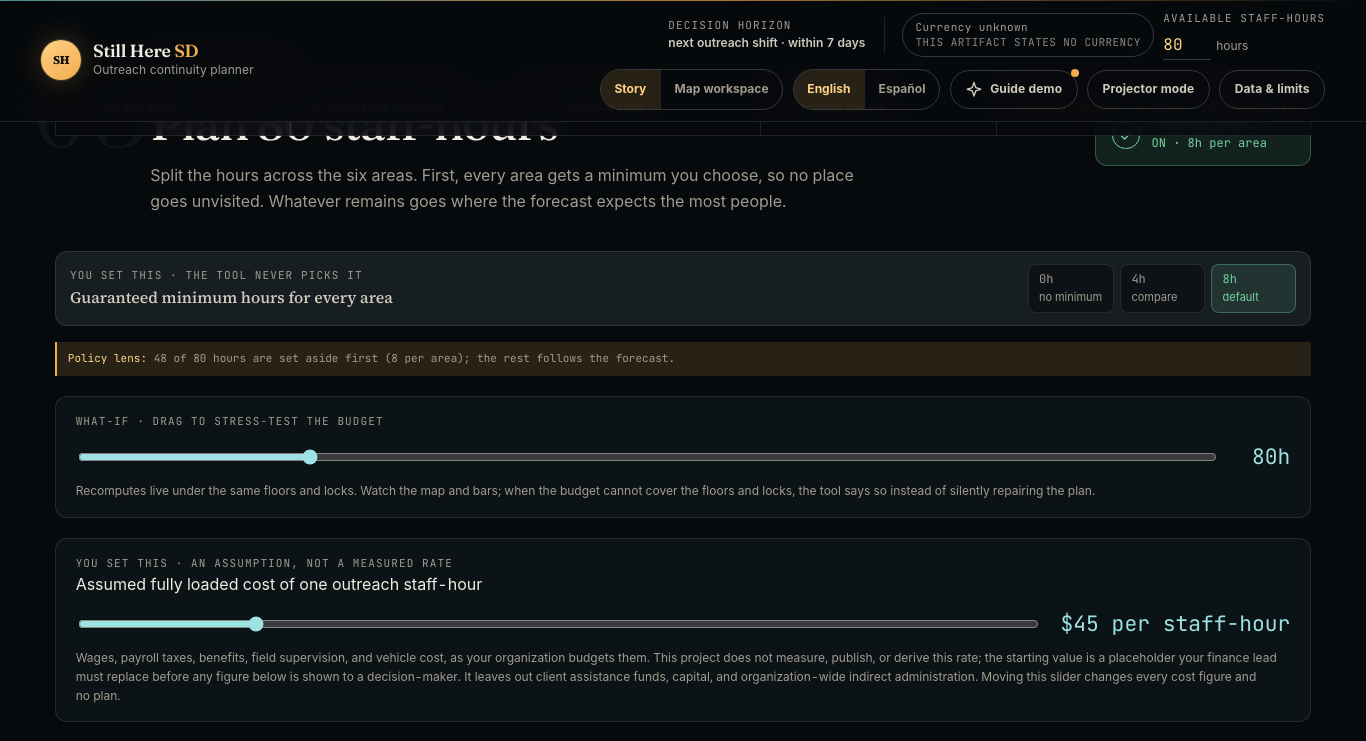
Test: aggregate spatial view (#13) › live-replans on budget change while a plan is on screen, and reports infeasibility
(page scrolled)
Set the slider labelled "What-if · drag to stress-test the budget" to "100": (367,457) [78,445,1217,469]
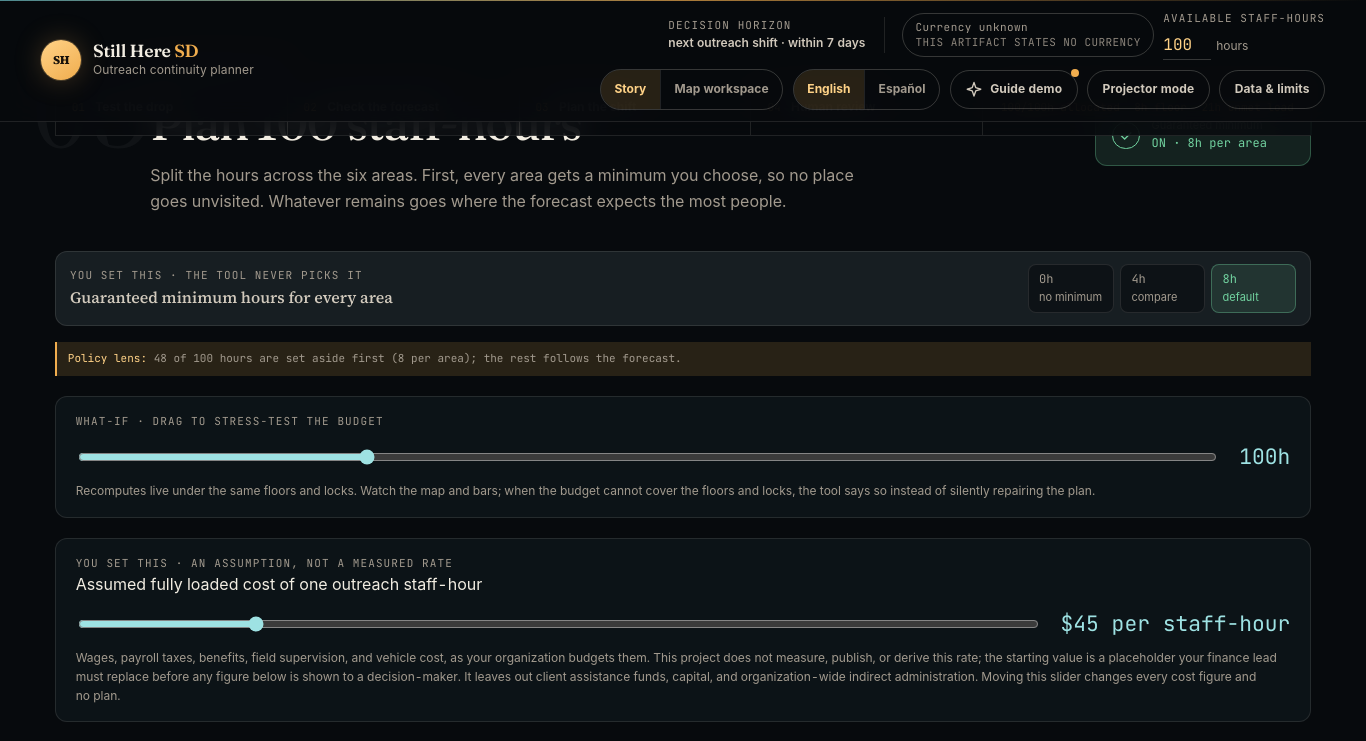
Set the slider labelled "What-if · drag to stress-test the budget" to "40": (198,457) [78,445,1217,469]
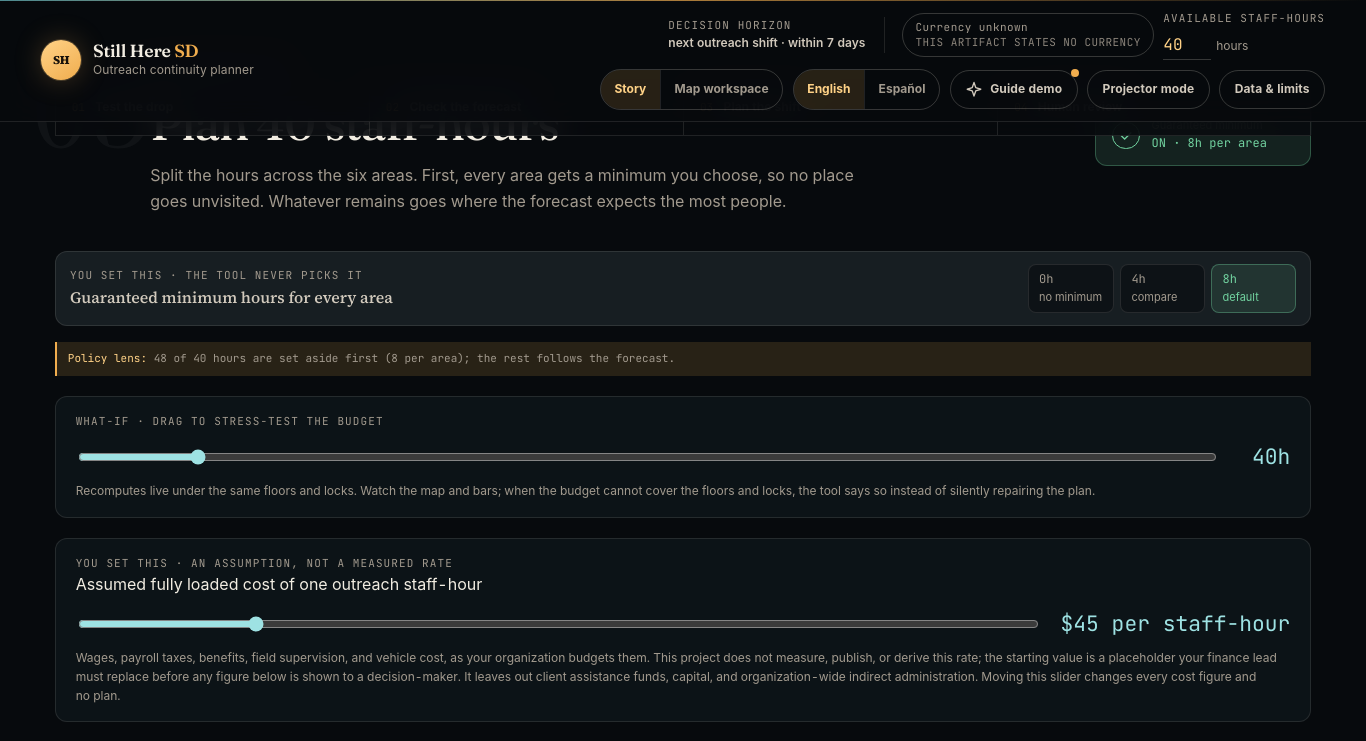
Set the slider labelled "What-if · drag to stress-test the budget" to "80": (310,457) [78,445,1217,469]
(page scrolled)
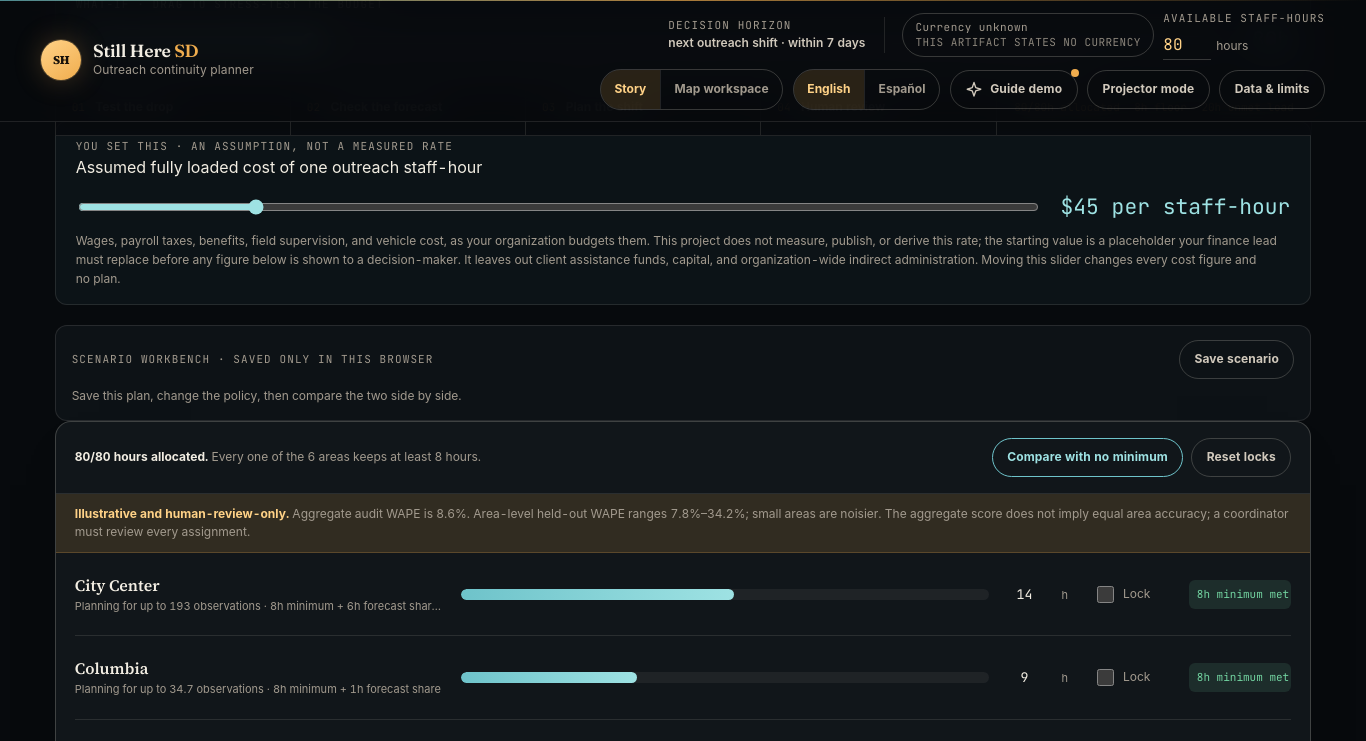
Expected: the text "80/80 hours allocated." is shown, [75,449,208,464]
